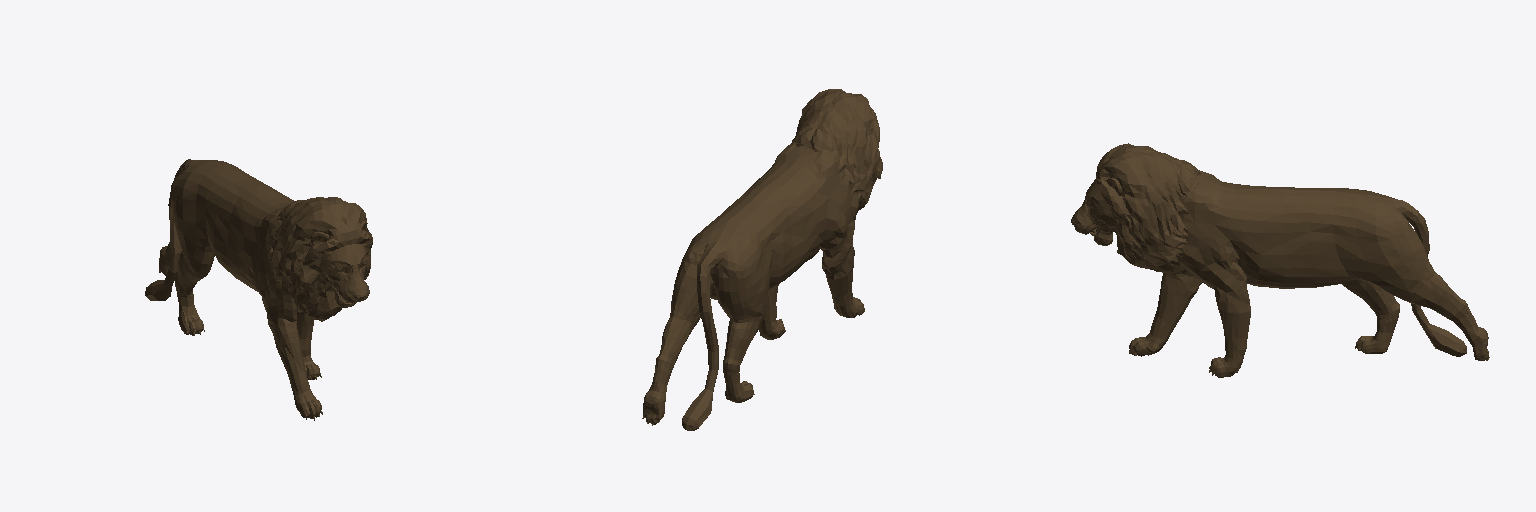
Rendered from lion.obj.
3 views of the same model, side by side, from view 1: azimuth 30°, elevation 25°; view 2: azimuth 150°, elevation 25°; view 3: azimuth 270°, elevation 25° (orthographic).
Visible parts, largest first — view 1: Mesh2 skp8371_1 Model, Mesh3 skp8371_1 Model, Mesh1 skp8371_1 Model; view 2: Mesh2 skp8371_1 Model, Mesh3 skp8371_1 Model, Mesh1 skp8371_1 Model; view 3: Mesh2 skp8371_1 Model, Mesh3 skp8371_1 Model, Mesh1 skp8371_1 Model.
Part boxes in pixels (bbox=[...]): Mesh2 skp8371_1 Model: bbox=[145, 159, 369, 394]; Mesh3 skp8371_1 Model: bbox=[268, 197, 372, 321]; Mesh1 skp8371_1 Model: bbox=[159, 220, 367, 420]; Mesh2 skp8371_1 Model: bbox=[653, 144, 860, 430]; Mesh3 skp8371_1 Model: bbox=[791, 89, 882, 212]; Mesh1 skp8371_1 Model: bbox=[642, 110, 874, 425]; Mesh2 skp8371_1 Model: bbox=[1073, 171, 1475, 358]; Mesh3 skp8371_1 Model: bbox=[1096, 143, 1200, 278]; Mesh1 skp8371_1 Model: bbox=[1071, 176, 1489, 377].
Bounding box in the file's own units: 65.02 × 163 × 286.